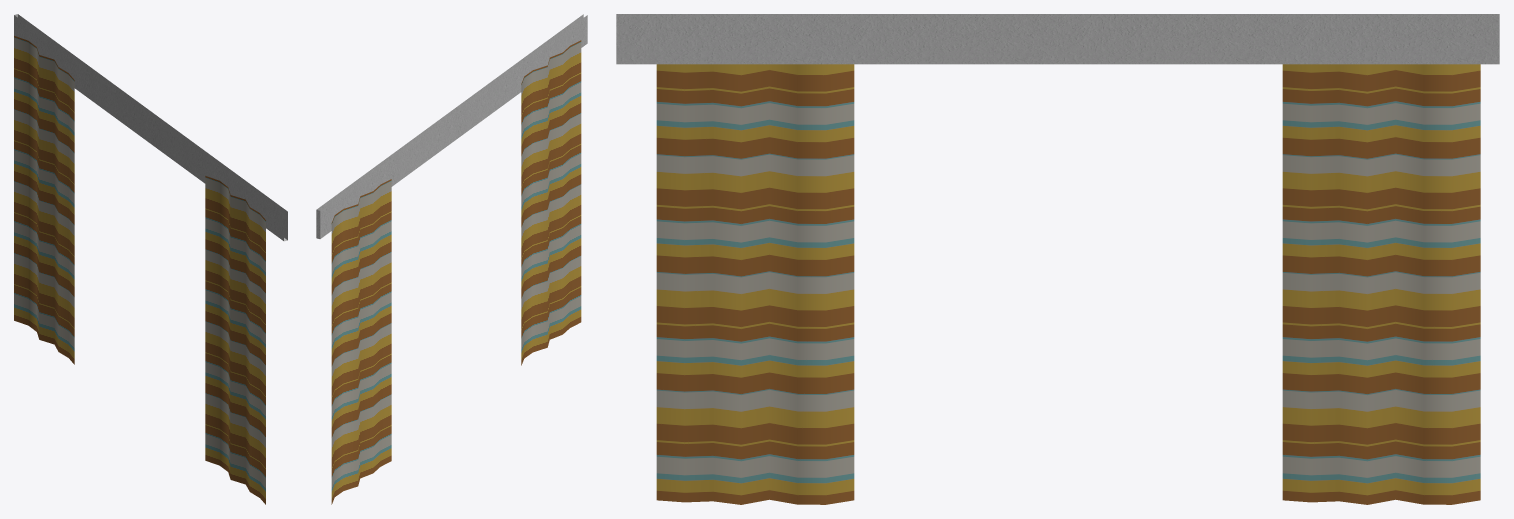
The model's file is Curtains.fbx.
The picture shows the model from 3 angles, left to right: view 1: azimuth 30°, elevation 25°; view 2: azimuth 150°, elevation 25°; view 3: azimuth 270°, elevation 25°; orthographic projection. The views are drawn at different scales.
Visible parts, largest first — view 1: Curtains.001, Curtains.002, Curtains; view 2: Curtains.001, Curtains.002, Curtains; view 3: Curtains.001, Curtains.002, Curtains.
Boxes of the visible parts, <box> form: Curtains.001: <box>14,36,74,364</box>; Curtains.002: <box>205,176,265,504</box>; Curtains: <box>14,14,287,241</box>; Curtains.001: <box>331,179,391,504</box>; Curtains.002: <box>521,40,581,365</box>; Curtains: <box>316,14,587,238</box>; Curtains.001: <box>1282,64,1480,504</box>; Curtains.002: <box>656,64,854,504</box>; Curtains: <box>616,14,1499,64</box>.
Size of the model in its own units: 7.68 by 211 by 343.
